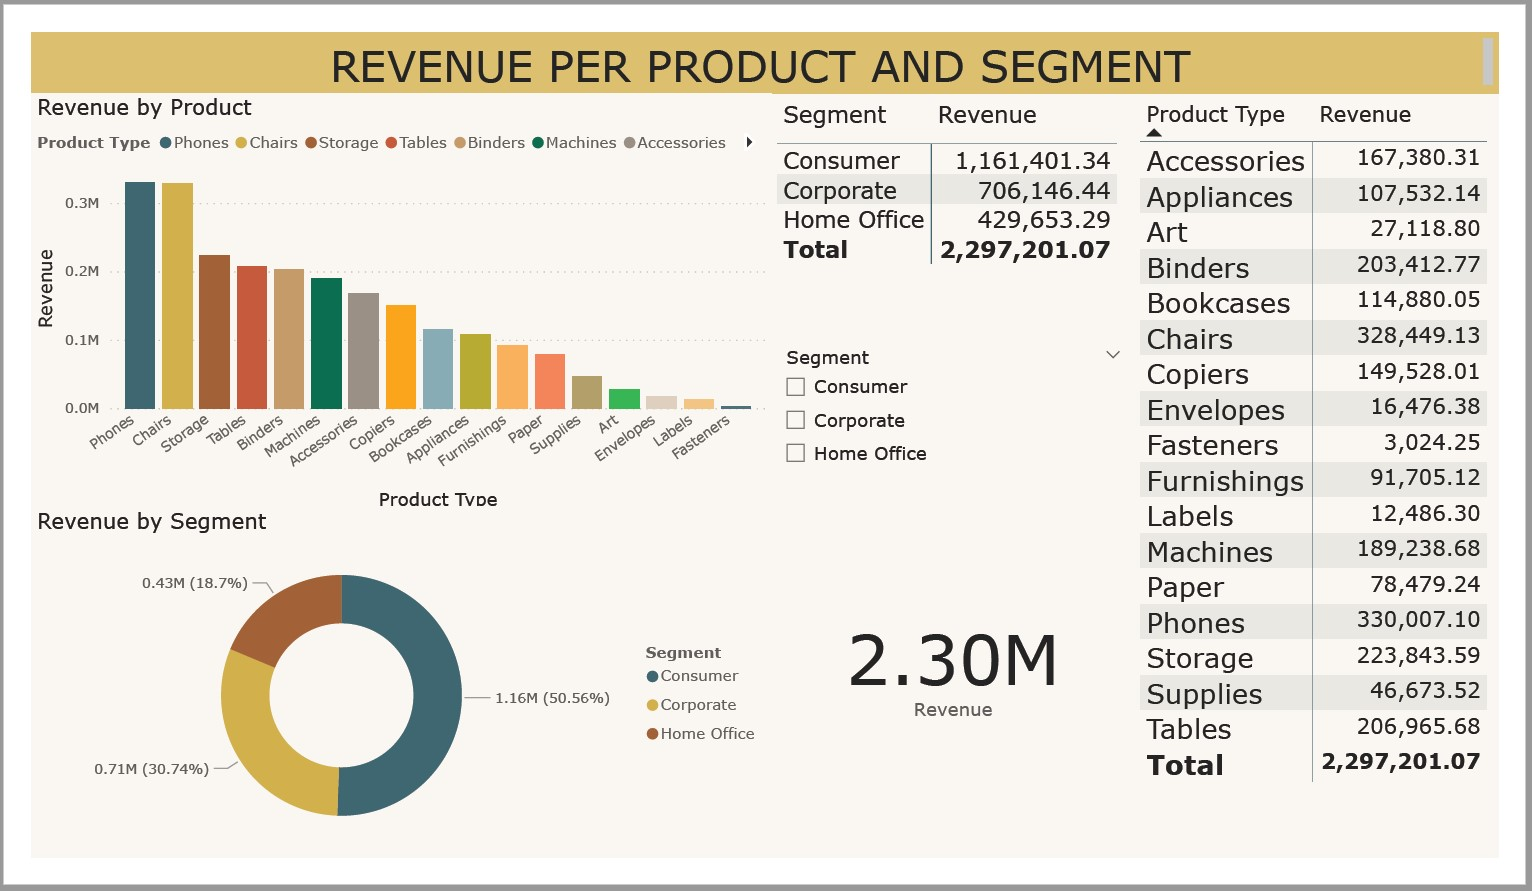

Layout of this report page (visuals, bound fields, positions):
{"tool":"powerbi","page":{"name":"Revenue product-segment","canvas":[1280,720],"ordinal":0},"visuals":[{"type":"pivotTable","fields":{"Rows":["Sales.SubCategory"],"Values":["DAX Measures.Revenue"]},"box":[963.4,53,316.6,667],"z":0},{"type":"pivotTable","fields":{"Rows":["customers.Segment"],"Values":["DAX Measures.Revenue"]},"box":[645.6,53,317.7,215.2],"z":1000},{"type":"card","fields":{"Values":["DAX Measures.Revenue"]},"box":[645.6,386.5,317.7,333.5],"z":2000},{"type":"textbox","box":[0,0,1280,53],"z":3000},{"type":"columnChart","title":"Revenue by Product","fields":{"Category":["Sales.SubCategory"],"Y":["DAX Measures.Revenue"],"Series":["Sales.SubCategory"]},"box":[0,53,645.6,368.5],"z":4000},{"type":"donutChart","fields":{"Y":["DAX Measures.Revenue"],"Category":["customers.Segment"]},"box":[0,413.5,645.6,306.5],"z":5000},{"type":"slicer","fields":{"Values":["customers.Segment"]},"box":[645.6,268.2,317.7,145.4],"z":6000}]}

Visuals, with their boxes on the page's 1280x720 design canvas (x1, y1, x2, y2). These are canvas units, not pixel positions in the 1532x891 screenshot, which may show the page scaled, cropped or inside an application window:
pivotTable - Sales.SubCategory x DAX Measures.Revenue: l=963, t=53, r=1280, b=720
pivotTable - customers.Segment x DAX Measures.Revenue: l=646, t=53, r=963, b=268
card - DAX Measures.Revenue: l=646, t=386, r=963, b=720
textbox: l=0, t=0, r=1280, b=53
"Revenue by Product" columnChart: l=0, t=53, r=646, b=422
donutChart - DAX Measures.Revenue x customers.Segment: l=0, t=414, r=646, b=720
slicer - customers.Segment: l=646, t=268, r=963, b=414
